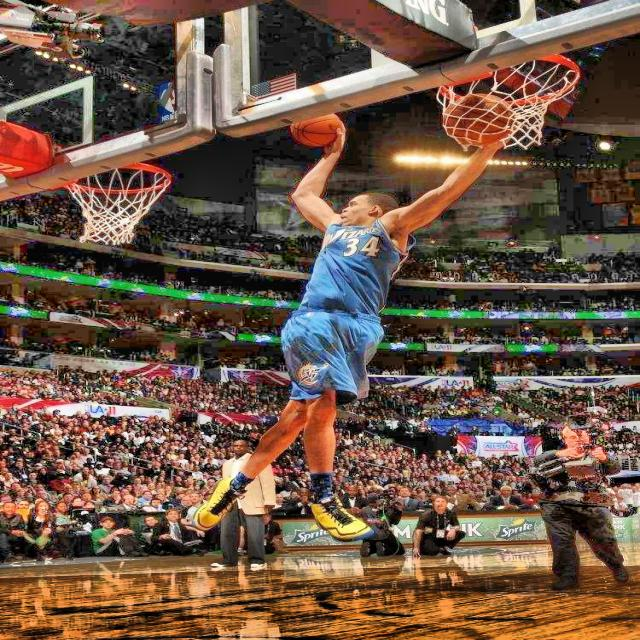rim: (63, 162, 175, 244)
